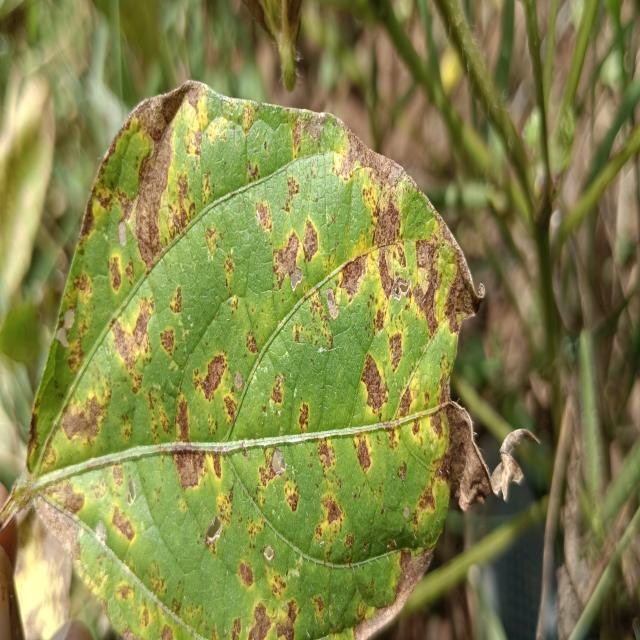Black gram_leaf spot: (27, 63, 547, 640)
